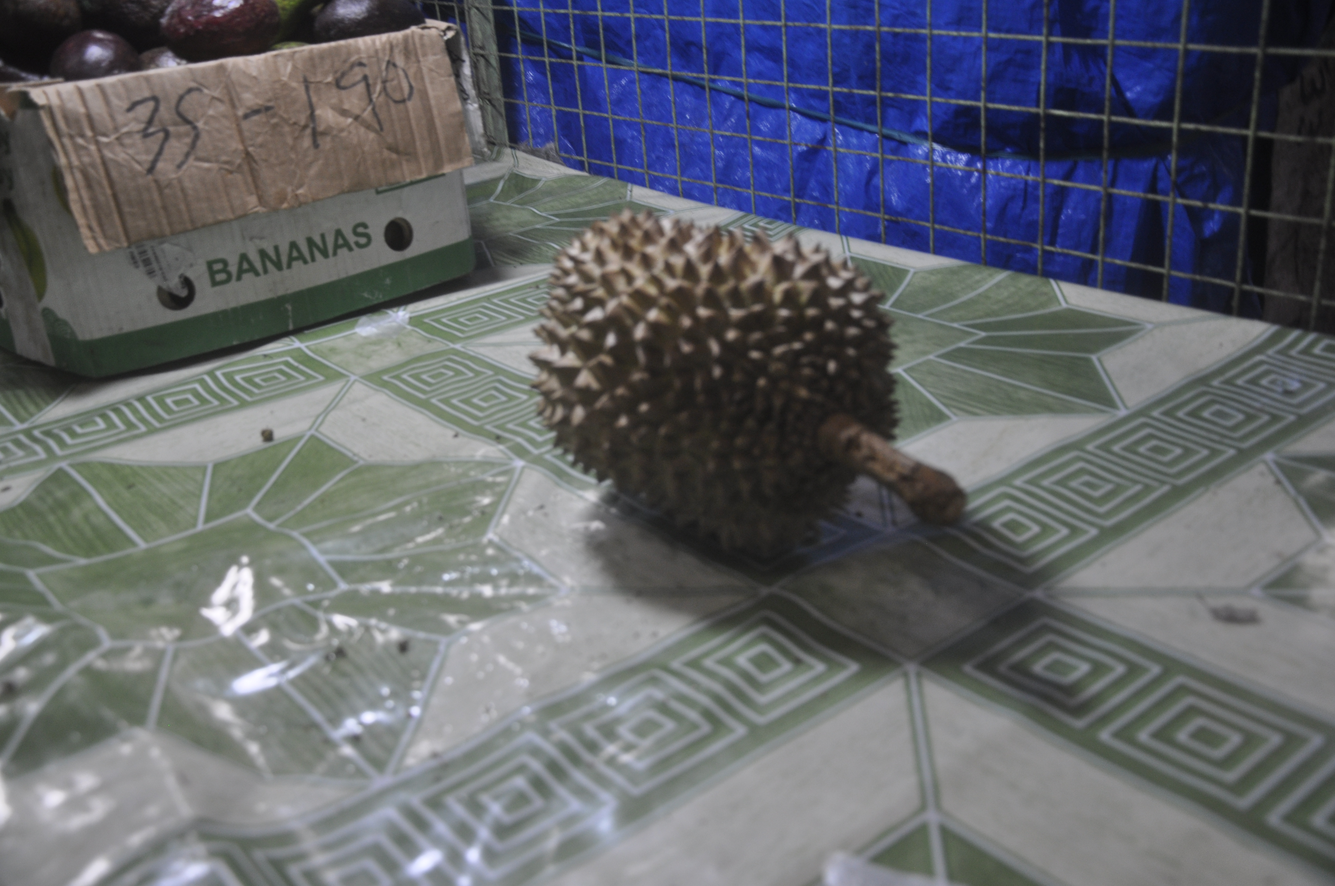mature: (497, 185, 989, 590)
